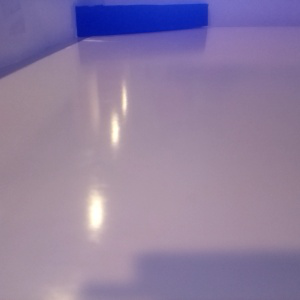zone: (76, 3, 208, 39)
